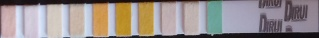color 1: (2, 8, 13, 35)
color 10: (209, 4, 220, 30)
color 2: (25, 7, 36, 35)
color 3: (48, 6, 60, 36)
color 4: (71, 5, 83, 35)
color 5: (94, 6, 106, 34)
color 6: (117, 5, 129, 33)
color 7: (141, 5, 152, 33)
color 8: (163, 4, 174, 33)
color 9: (185, 5, 197, 33)
